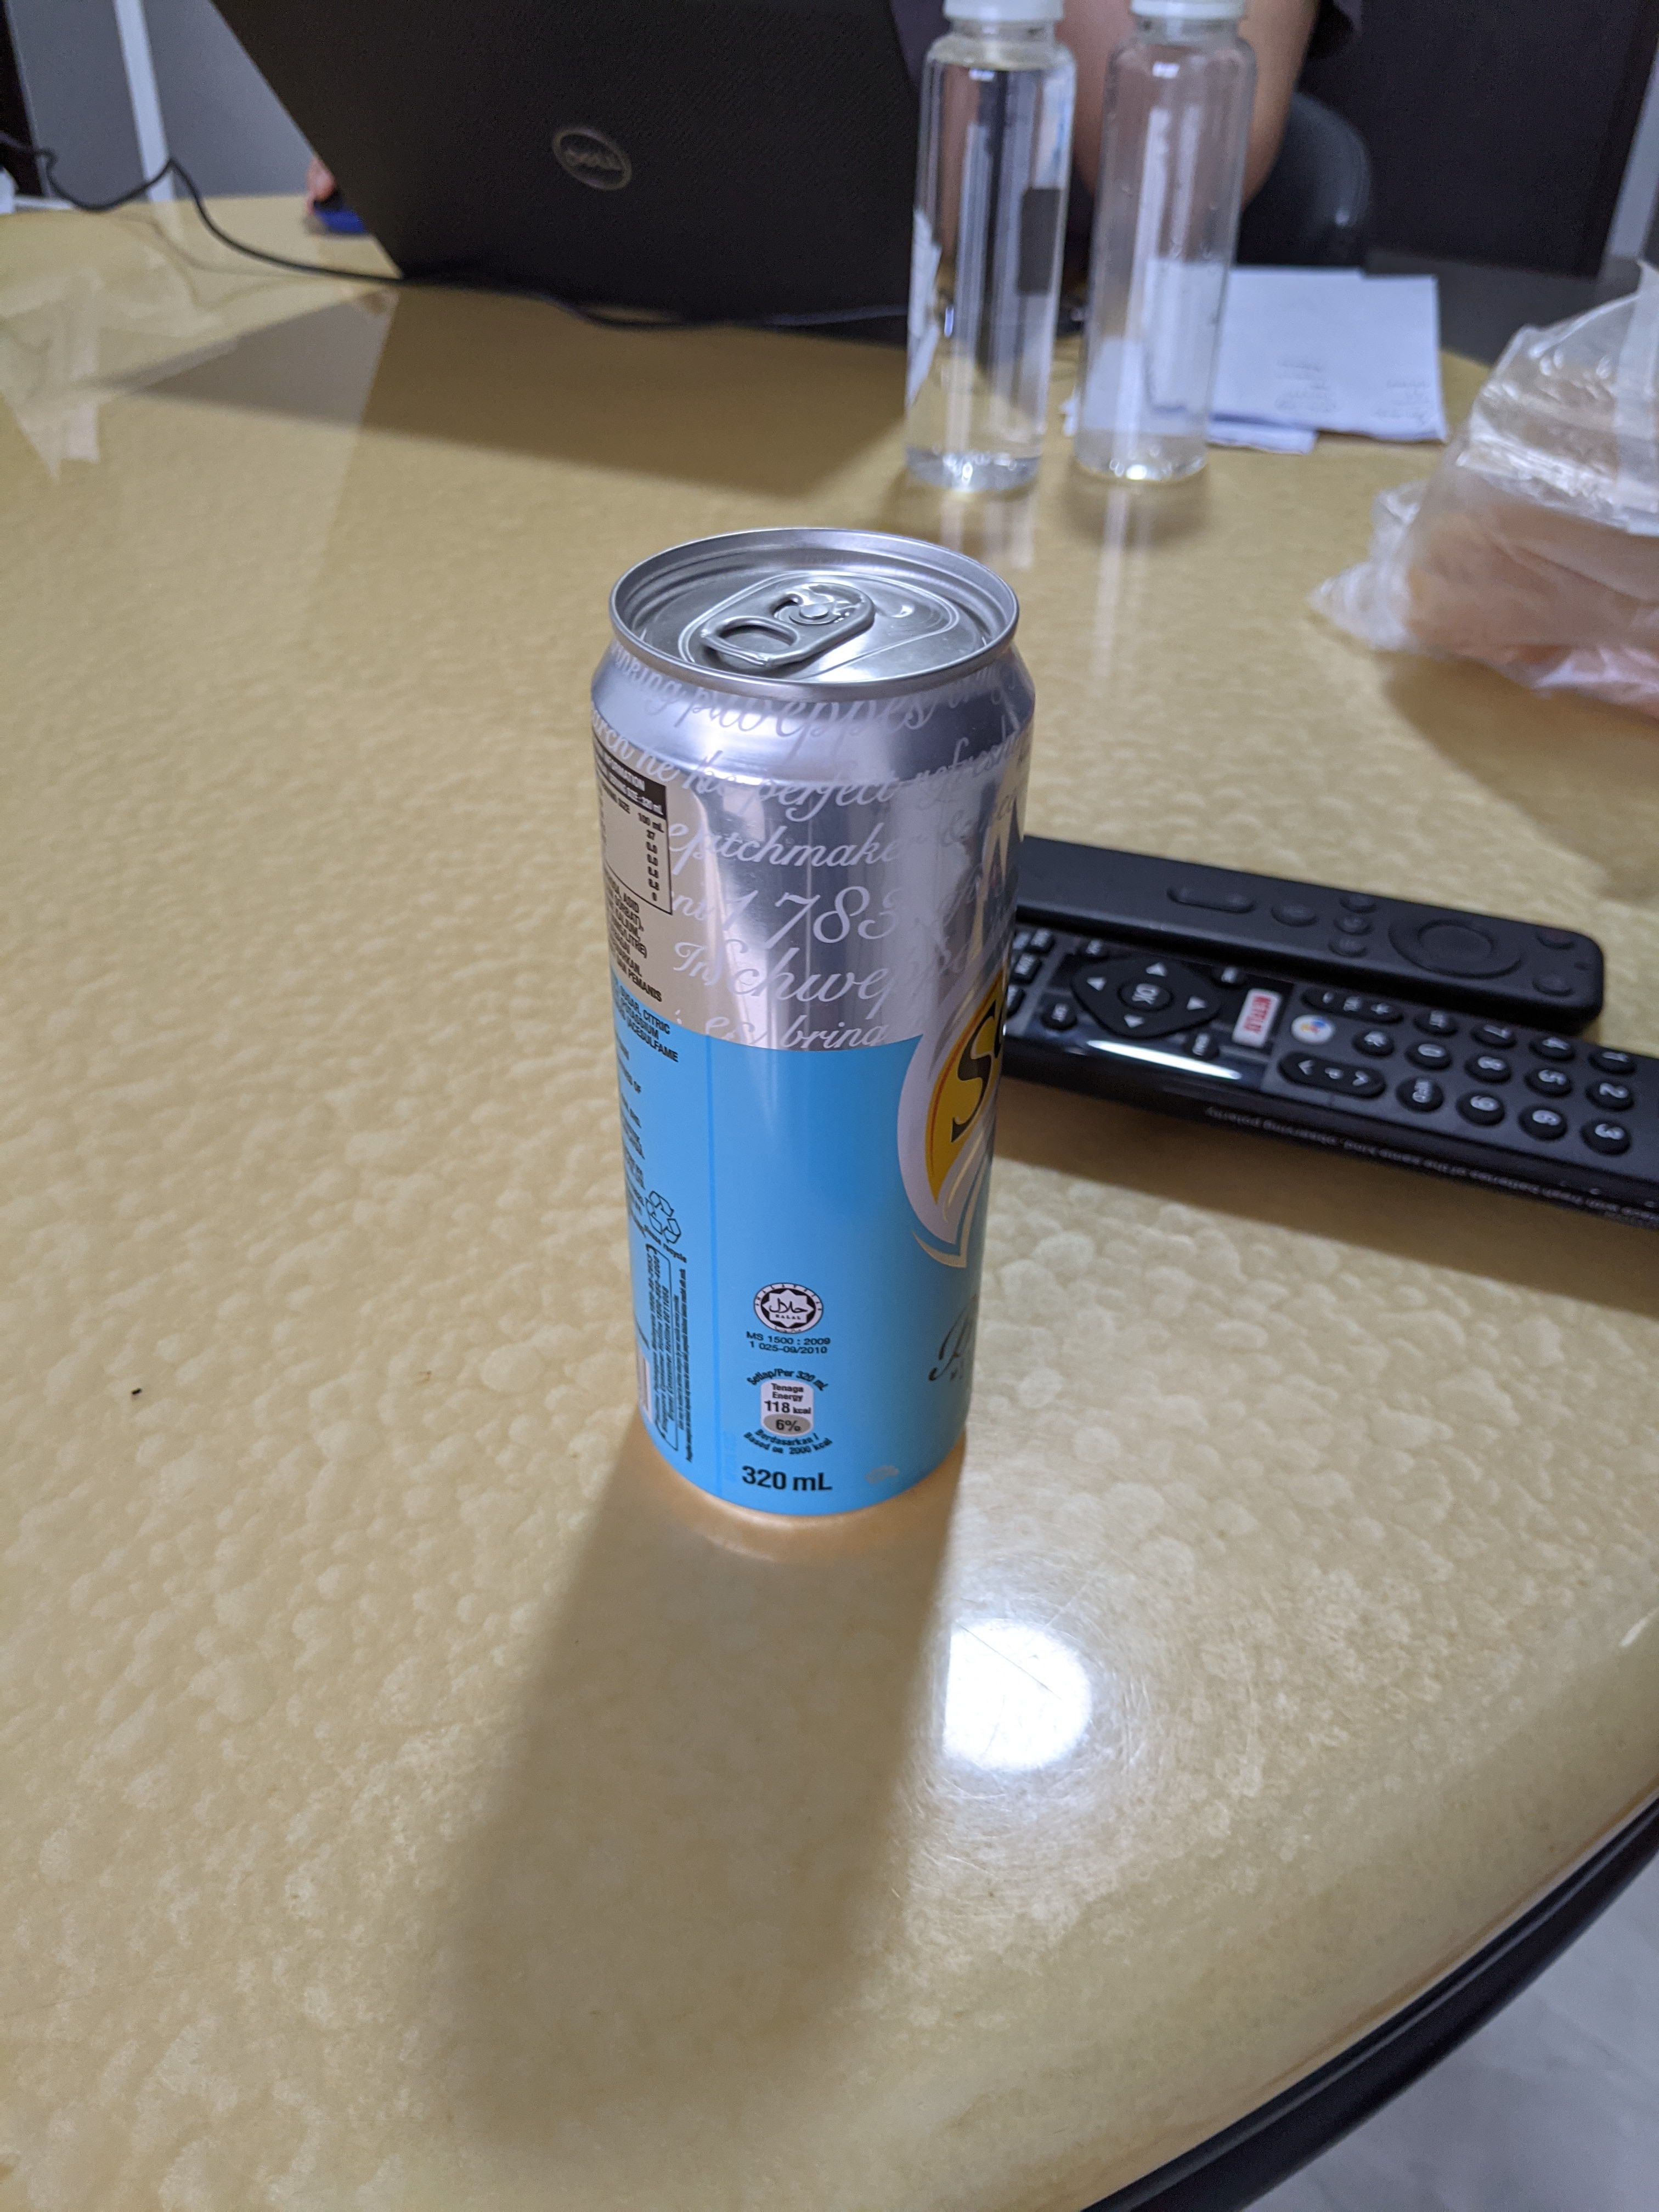schweppes drink can bitter lemon: (566, 505, 1060, 1557)
